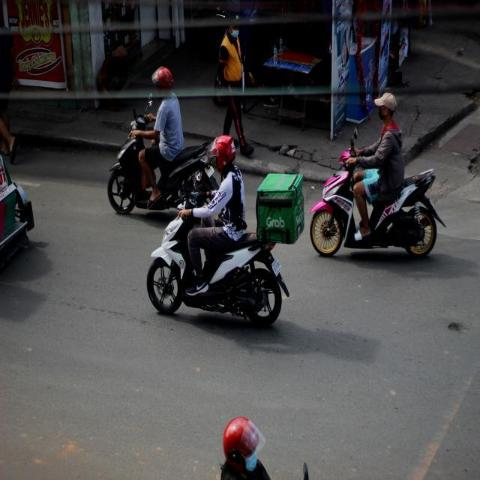motorcycle: (145, 134, 306, 329)
truck: (310, 92, 435, 255), (112, 62, 218, 218)
